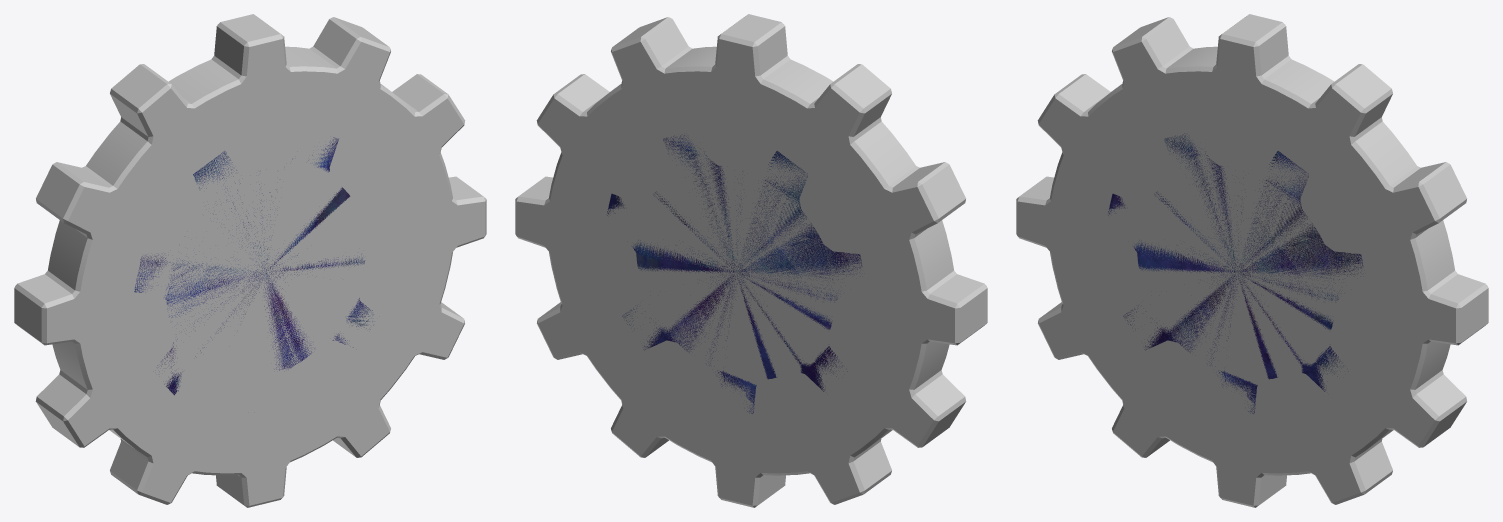
Rendered from Gate.fbx.
3 views of the same model, side by side, from view 1: azimuth 30°, elevation 25°; view 2: azimuth 150°, elevation 25°; view 3: azimuth 330°, elevation 25° (orthographic).
Visible parts, largest first — view 1: Gear_Big, Small_Gear; view 2: Gear_Big, Small_Gear; view 3: Gear_Big, Small_Gear.
Boxes of the visible parts, <box> form: Gear_Big: <box>14,14,486,507</box>; Small_Gear: <box>134,137,373,395</box>; Gear_Big: <box>515,14,987,507</box>; Small_Gear: <box>607,134,862,413</box>; Gear_Big: <box>1016,14,1488,507</box>; Small_Gear: <box>1108,133,1363,413</box>.
Bounding box in the file's own units: 659 × 659 × 80.
